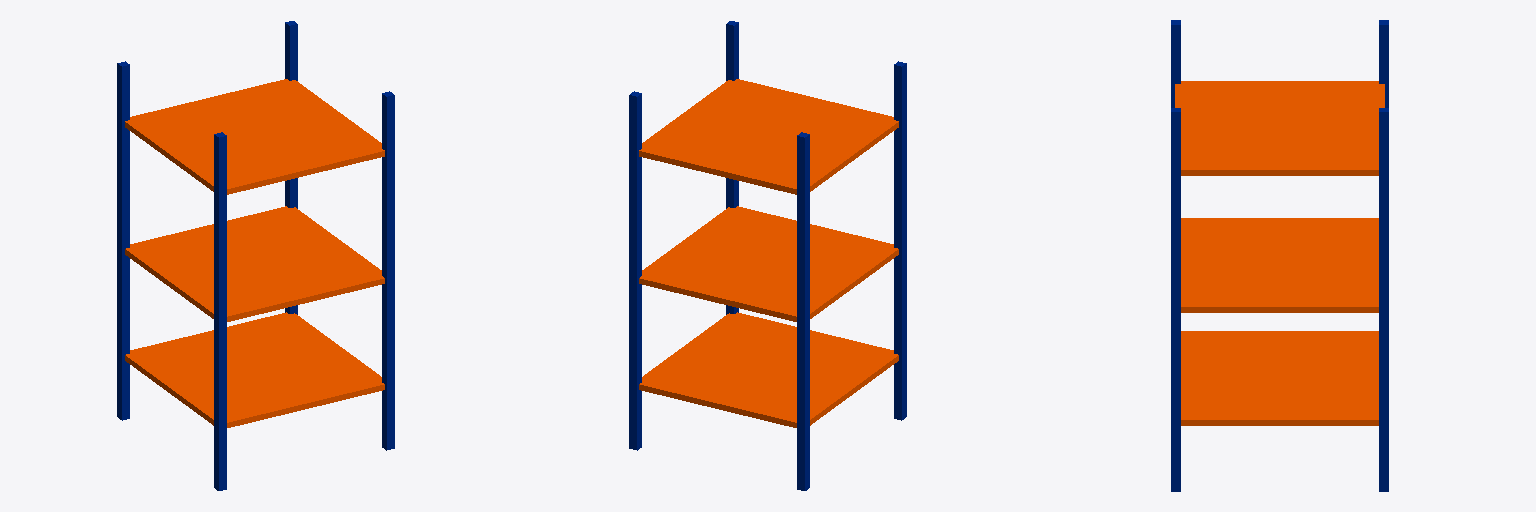
The robot description file, URDF, robot "pallet_rack":
<?xml version="1.0"?>
<robot name="pallet_rack">

  <material name="rack_blue"><color rgba="0.0 0.2 0.6 1.0"/></material>
  <material name="rack_orange"><color rgba="1.0 0.4 0.0 1.0"/></material>

  <link name="rack_base">
    
    <inertial>
      <mass value="100.0"/>
      <origin xyz="0 0 0.1" rpy="0 0 0"/>
      <inertia ixx="45.0" ixy="0.0" ixz="0.0" iyy="45.0" iyz="0.0" izz="5.0"/>
    </inertial>

    <visual><origin xyz="0.62 0.62 1.21" rpy="0 0 0"/><geometry><box size="0.06 0.06 2.5"/></geometry><material name="rack_blue"/></visual>
    <collision><origin xyz="0.62 0.62 1.21" rpy="0 0 0"/><geometry><box size="0.06 0.06 2.5"/></geometry></collision>

    <visual><origin xyz="0.62 -0.62 1.21" rpy="0 0 0"/><geometry><box size="0.06 0.06 2.5"/></geometry><material name="rack_blue"/></visual>
    <collision><origin xyz="0.62 -0.62 1.21" rpy="0 0 0"/><geometry><box size="0.06 0.06 2.5"/></geometry></collision>

    <visual><origin xyz="-0.62 0.62 1.21" rpy="0 0 0"/><geometry><box size="0.06 0.06 2.5"/></geometry><material name="rack_blue"/></visual>
    <collision><origin xyz="-0.62 0.62 1.21" rpy="0 0 0"/><geometry><box size="0.06 0.06 2.5"/></geometry></collision>

    <visual><origin xyz="-0.62 -0.62 1.21" rpy="0 0 0"/><geometry><box size="0.06 0.06 2.5"/></geometry><material name="rack_blue"/></visual>
    <collision><origin xyz="-0.62 -0.62 1.21" rpy="0 0 0"/><geometry><box size="0.06 0.06 2.5"/></geometry></collision>

    <visual><origin xyz="0 0 0.40" rpy="0 0 0"/><geometry><box size="1.26 1.26 0.04"/></geometry><material name="rack_orange"/></visual>
    <collision><origin xyz="0 0 0.40" rpy="0 0 0"/><geometry><box size="1.26 1.26 0.04"/></geometry></collision>

    <visual><origin xyz="0 0 1.15" rpy="0 0 0"/><geometry><box size="1.26 1.26 0.04"/></geometry><material name="rack_orange"/></visual>
    <collision><origin xyz="0 0 1.15" rpy="0 0 0"/><geometry><box size="1.26 1.26 0.04"/></geometry></collision>

    <visual><origin xyz="0 0 2.05" rpy="0 0 0"/><geometry><box size="1.26 1.26 0.04"/></geometry><material name="rack_orange"/></visual>
    <collision><origin xyz="0 0 2.05" rpy="0 0 0"/><geometry><box size="1.26 1.26 0.04"/></geometry></collision>
  </link>
</robot>

--- What the picture shows (computed from the rendered views, not written in the file) ---
Views: 3 orthographic renders of the robot side by side, from view 1: azimuth 30°, elevation 25°; view 2: azimuth 150°, elevation 25°; view 3: azimuth 270°, elevation 25°.
Model pallet_rack with 1 links and 0 joints (none), rooted at rack_base, posed all joints at 0.
Links seen in each view (by area): view 1: rack_base; view 2: rack_base; view 3: rack_base.
Boxes of the visible links, x1,y1,x2,y2 form: rack_base: (117, 21, 394, 490); rack_base: (629, 21, 906, 490); rack_base: (1171, 20, 1388, 491).
Size in the robot's own frame: 1.3 by 1.3 by 2.5 metres.
Geometry: primitives only (box / cylinder / sphere), no mesh files.
